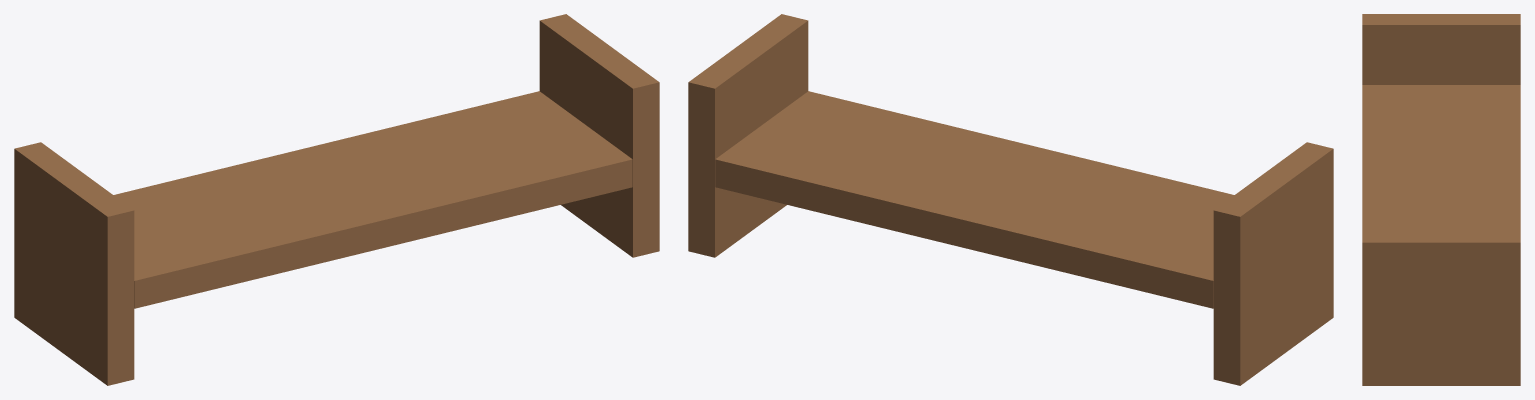
File: Bench_1.fbx
The picture shows the model from 3 angles, left to right: view 1: azimuth 30°, elevation 25°; view 2: azimuth 150°, elevation 25°; view 3: azimuth 270°, elevation 25°; orthographic projection. The views are drawn at different scales.
Parts seen in each view (by area): view 1: Bench_mesh; view 2: Bench_mesh; view 3: Bench_mesh.
Boxes of the visible parts, x1=… form: Bench_mesh: x1=14, y1=14, x2=659, y2=385; Bench_mesh: x1=688, y1=14, x2=1333, y2=385; Bench_mesh: x1=1362, y1=14, x2=1520, y2=385.
Size of the model in its own units: 256 by 74.94 by 74.94.
